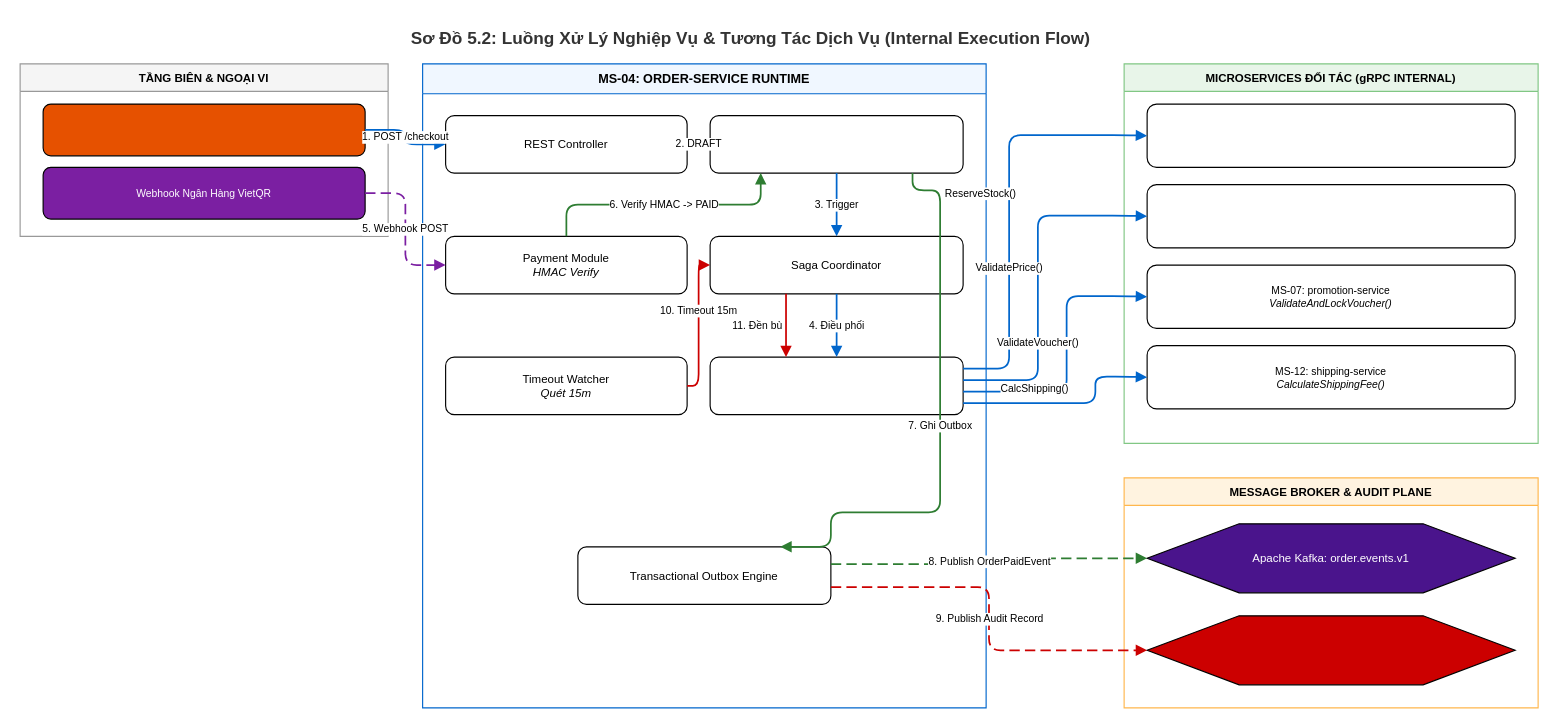
The diagram is 1558 pixels wide and 728 high, and some of its shapes have lost their labels. Each missing label, with the box of its shape:
Apache Kafka: audit.events.v1: (1146, 615, 1515, 685)
API Gateway (Kong) Inject: X-User-Id, traceparent: (42, 103, 365, 156)
gRPC Clients Pool: (709, 356, 963, 415)
MS-01: inventory-service ReserveStock() / ReleaseReservation(): (1146, 103, 1515, 167)
MS-05: catalog-service ValidatePriceAndSKU(): (1146, 183, 1515, 248)
Order Aggregate Root: (709, 114, 963, 173)
